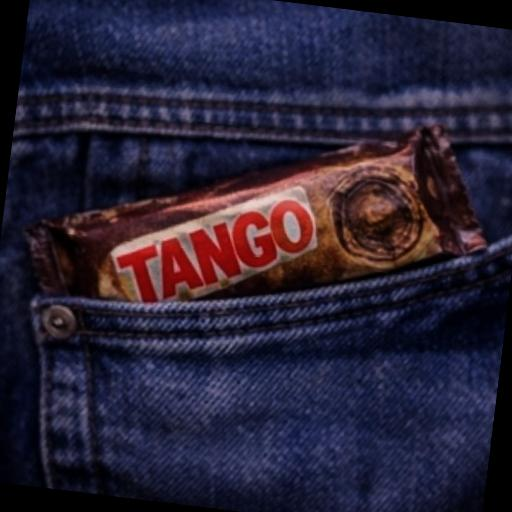tango: (8, 82, 510, 376)
